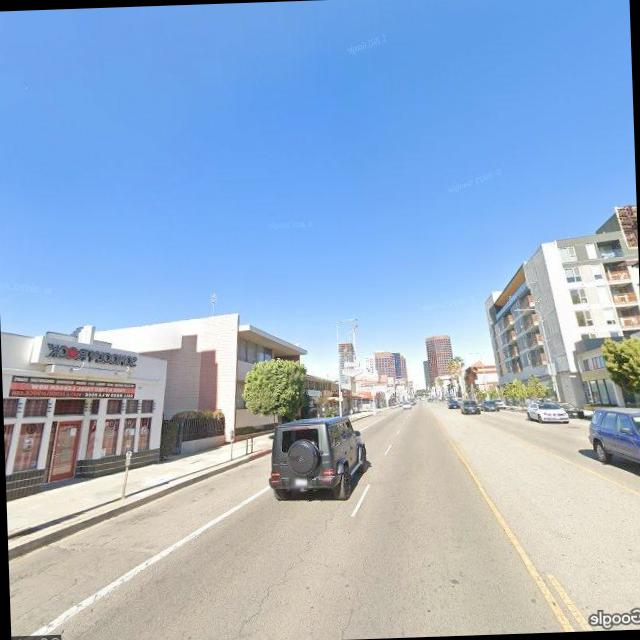crack: (220, 512, 337, 640)
